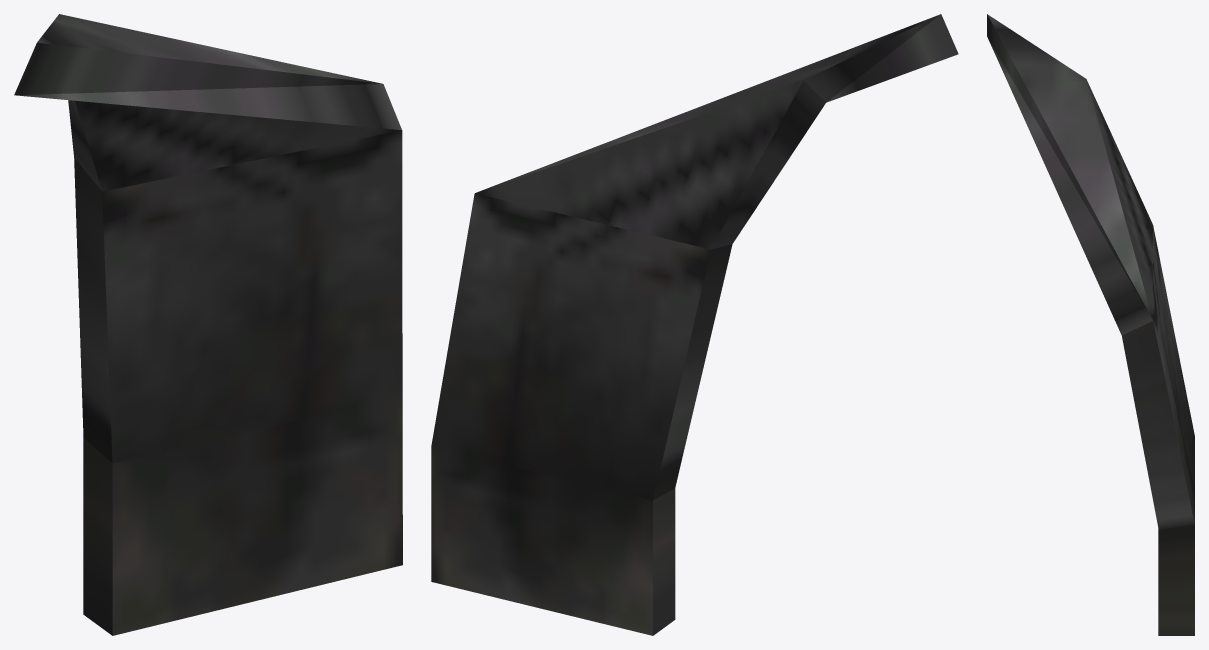
The model's file is Shared - Ground Vehicles - CV Generic x 13 - CVGeneric_x13.glb.
3 renders of one model, left to right at view 1: azimuth 30°, elevation 25°; view 2: azimuth 150°, elevation 25°; view 3: azimuth 270°, elevation 25°, orthographic. The views are drawn at different scales.
Parts seen in each view (by area): view 1: CVGENERIC_X13; view 2: CVGENERIC_X13; view 3: CVGENERIC_X13.
Boxes of the visible parts, left/top/right/bottom form: CVGENERIC_X13: left=14, top=14, right=402, bottom=635; CVGENERIC_X13: left=431, top=14, right=958, bottom=635; CVGENERIC_X13: left=987, top=14, right=1194, bottom=635.
Size of the model in its own units: 4.1 by 5.56 by 2.24.
1 material, 1 textured.
